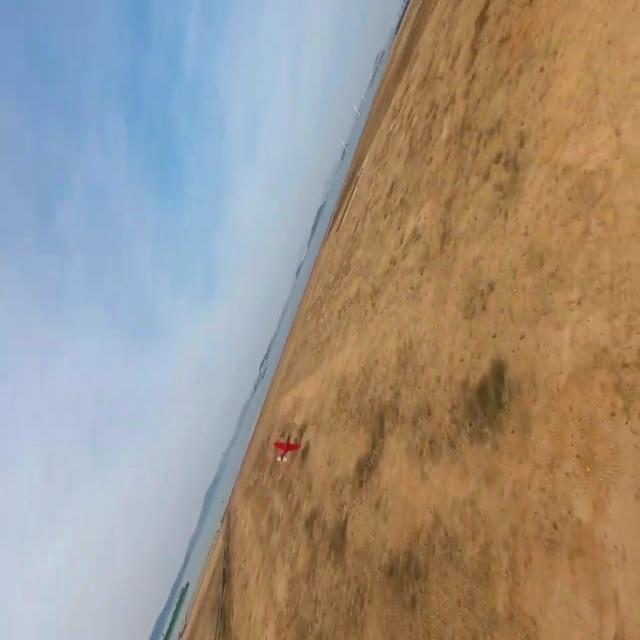iha: (268, 437, 312, 458)
